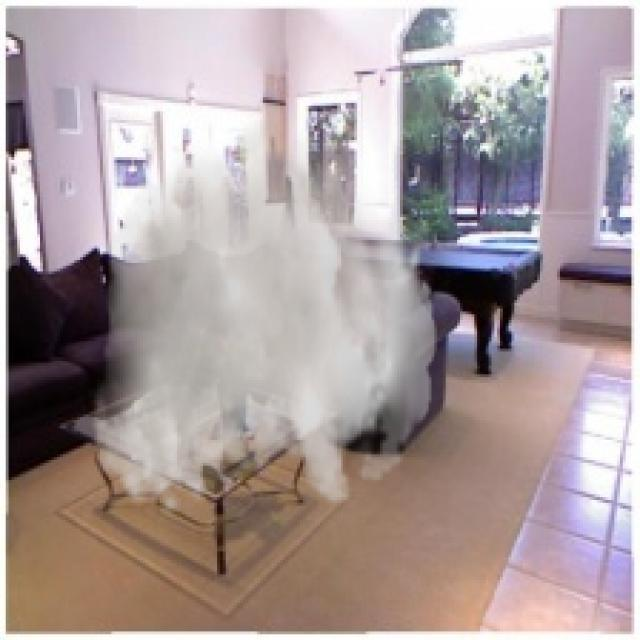Smoke: (92, 94, 437, 517)
